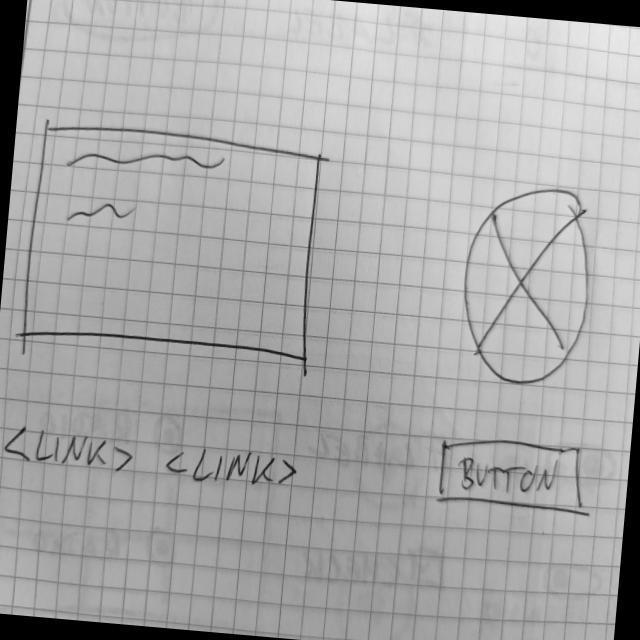button: (431, 432, 592, 519)
image: (453, 181, 601, 396)
link: (3, 422, 138, 478), (161, 443, 302, 491)
textarea: (18, 119, 328, 374)
